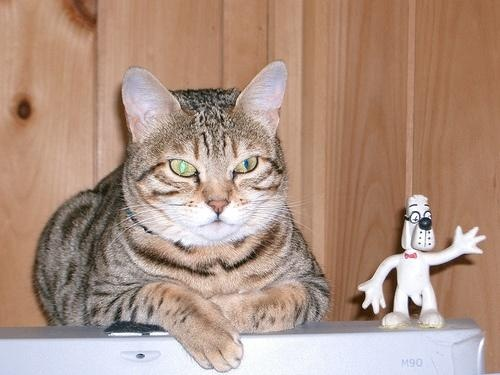cat: (32, 59, 332, 374)
